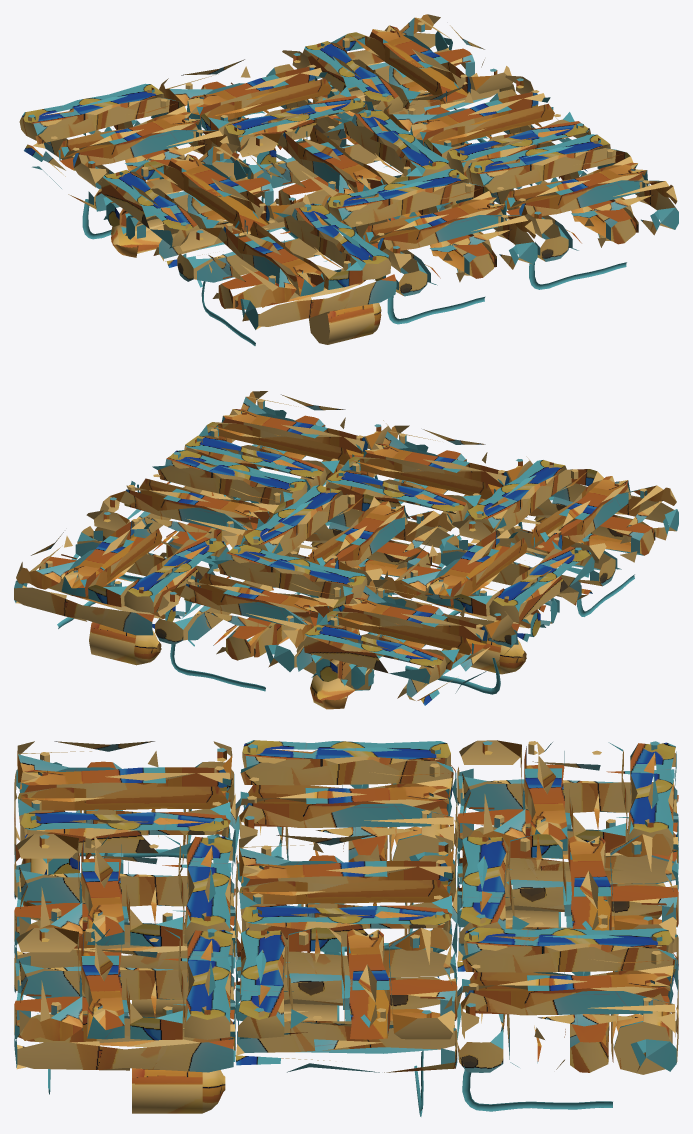
File: RafttILEfbx.fbx
The picture shows the model from 3 angles, top to bottom: view 1: azimuth 30°, elevation 25°; view 2: azimuth 150°, elevation 25°; view 3: azimuth 270°, elevation 25°; orthographic projection. The views are drawn at different scales.
Parts seen in each view (by area): view 1: bolt.010; view 2: bolt.010; view 3: bolt.010.
Part boxes in pixels (x1,y1,x2,y2): bolt.010: (19, 14, 678, 345); bolt.010: (14, 391, 678, 709); bolt.010: (14, 740, 678, 1116).
Size of the model in its own units: 300 by 56.37 by 300.
1 material, 1 textured.
